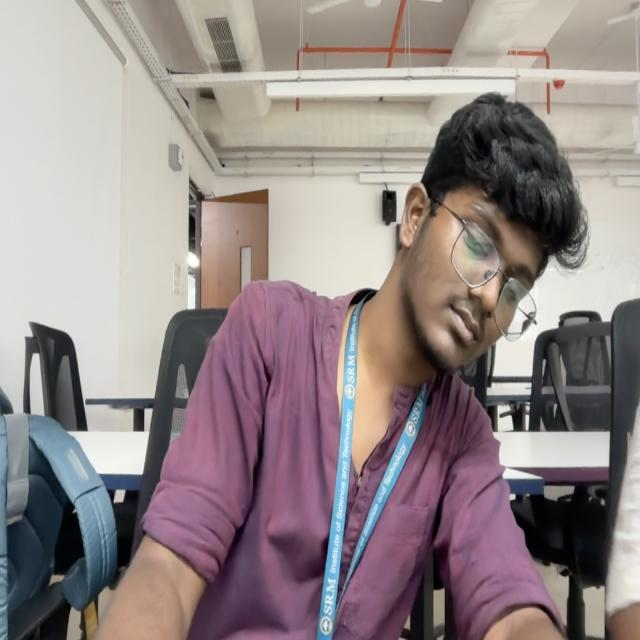ravindra: (398, 94, 586, 377)
